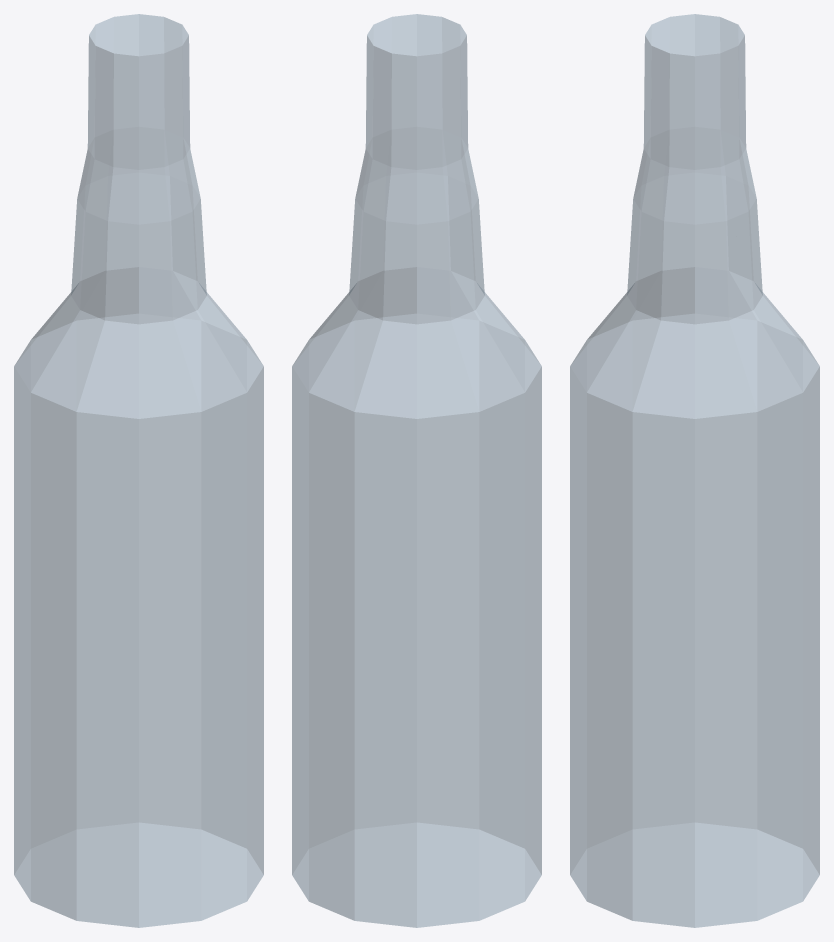
File: botella_horrible4.glb
3 renders of one model, left to right at view 1: azimuth 30°, elevation 25°; view 2: azimuth 150°, elevation 25°; view 3: azimuth 270°, elevation 25°, orthographic.
Parts seen in each view (by area): view 1: Cylinder; view 2: Cylinder; view 3: Cylinder.
Boxes of the visible parts, box(x1,y1,x2,y2) form: Cylinder: box(14, 14, 263, 927); Cylinder: box(292, 14, 541, 927); Cylinder: box(570, 14, 819, 927).
Size of the model in its own units: 0.2939 by 1.09 by 0.2939.
